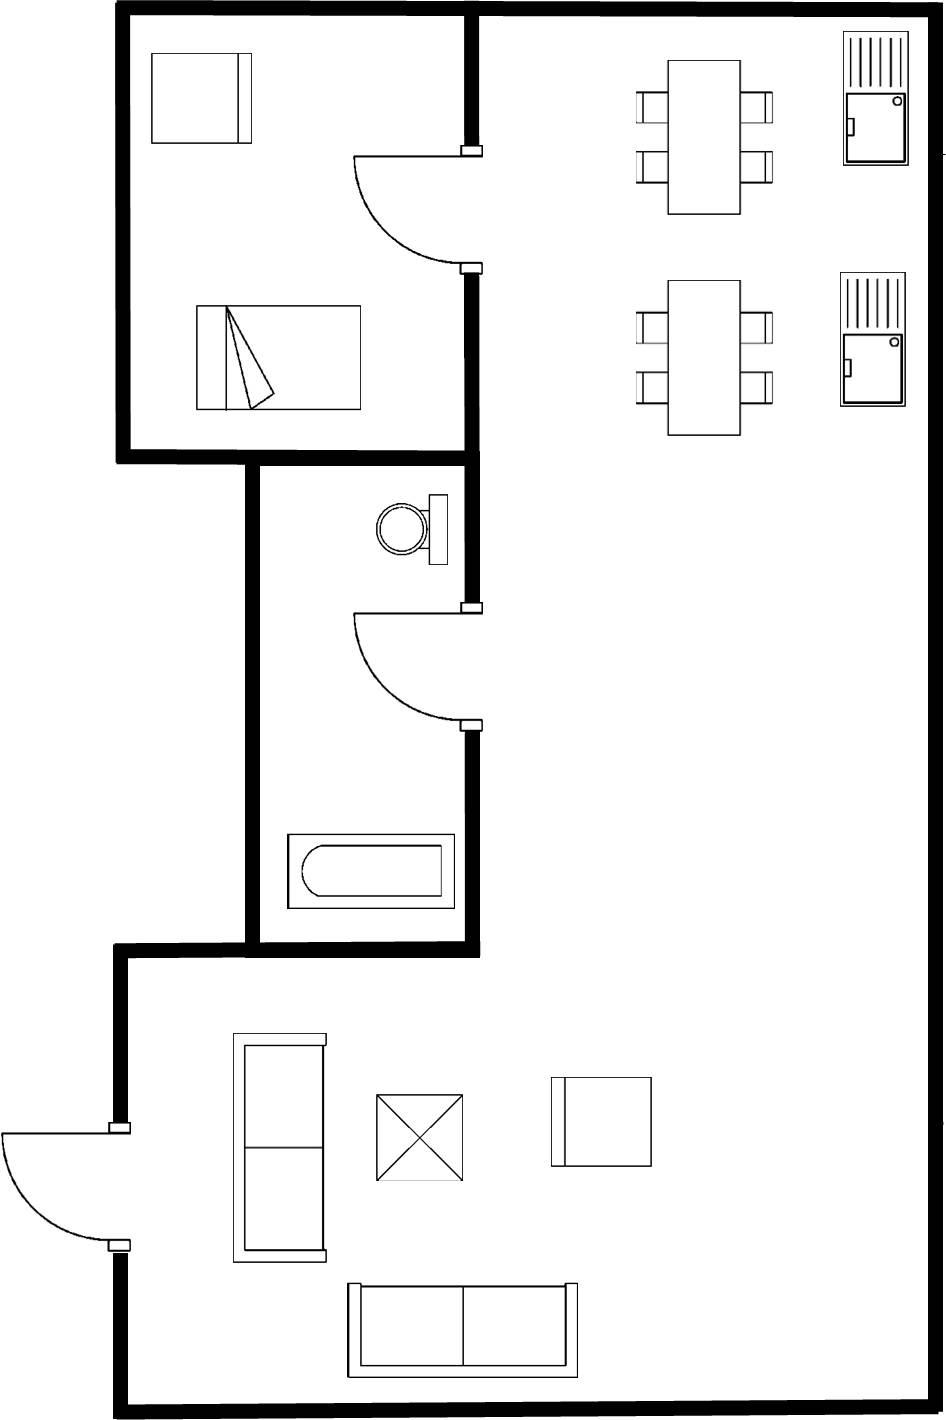bed: (186, 295, 371, 418)
dining_table: (630, 268, 782, 443), (625, 50, 779, 221)
sink: (830, 21, 919, 174), (828, 263, 915, 417)
sofa: (339, 1273, 586, 1393), (221, 1023, 337, 1275)
toilet: (361, 485, 458, 578)
tub: (278, 825, 461, 919)
